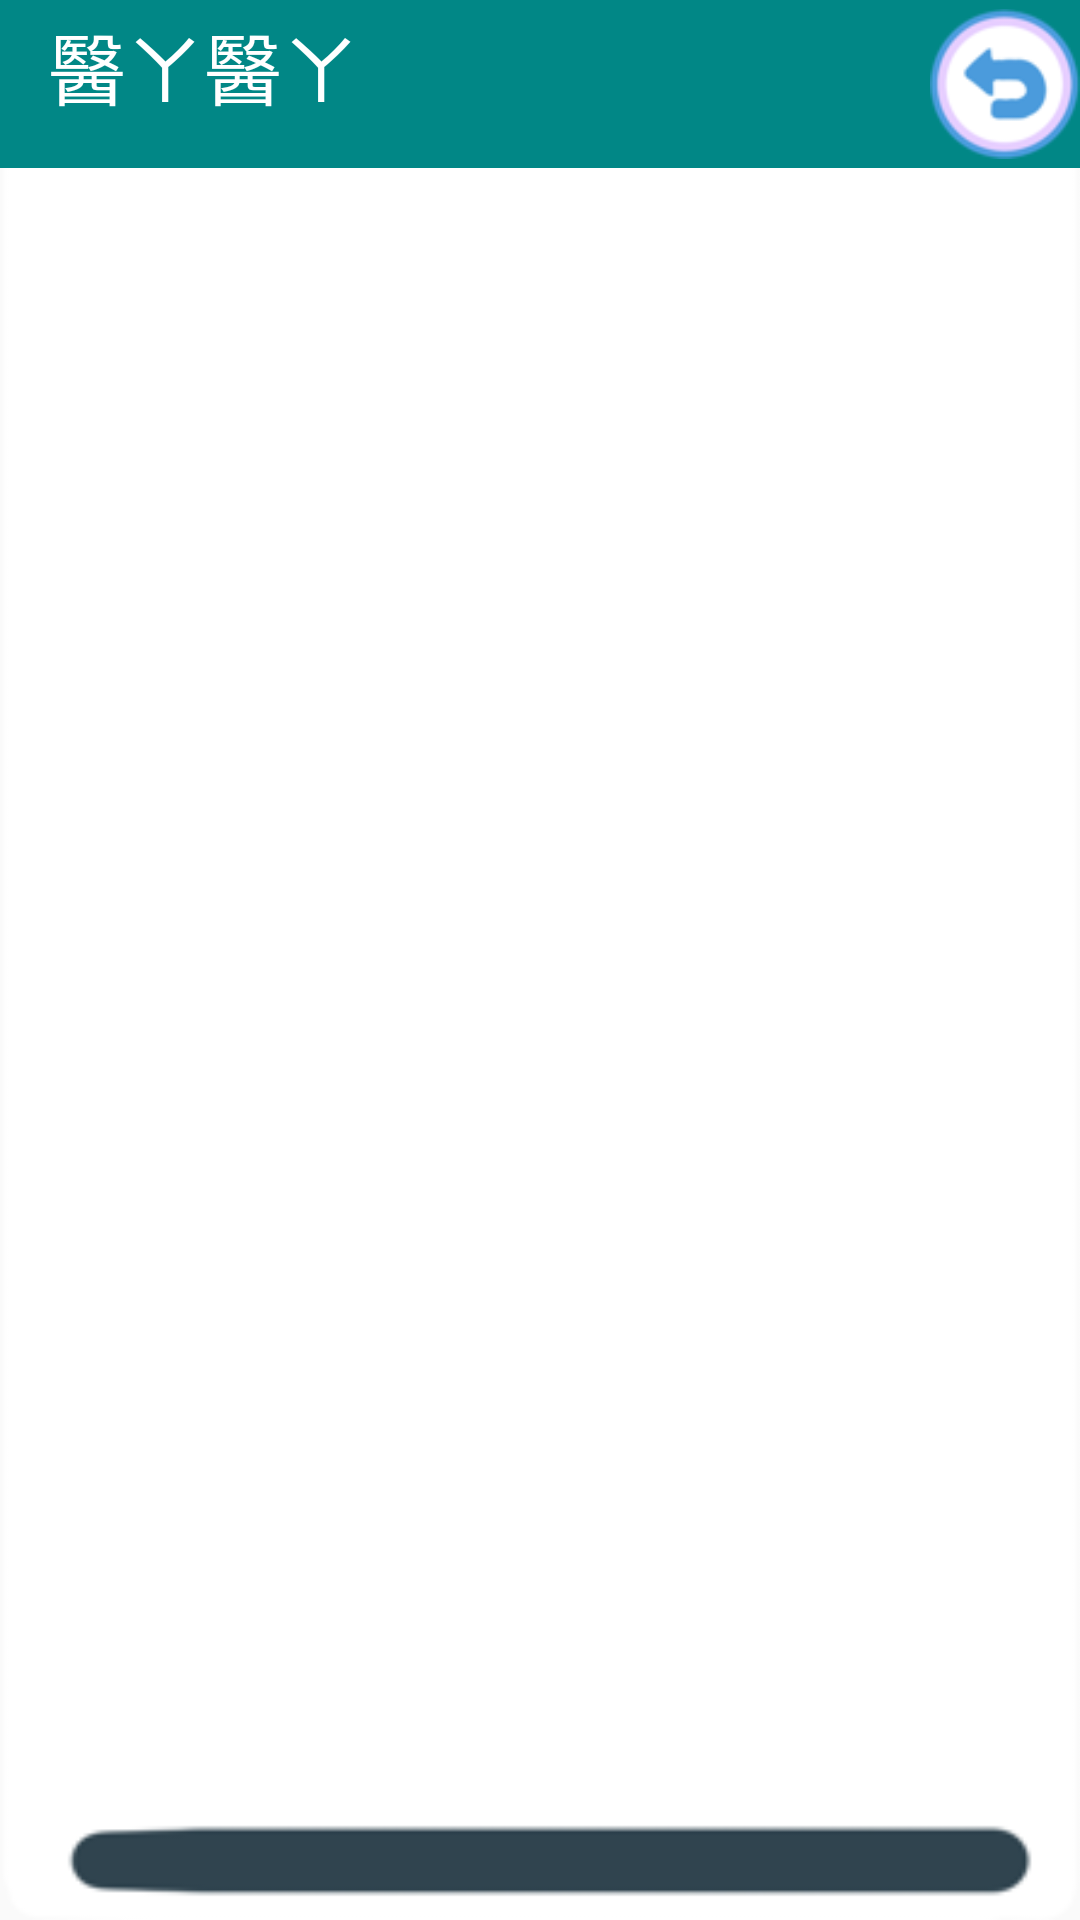

Screen size 1080*1920. Icon name, then its center in pixels as (x,y):
back: (1004,84)
